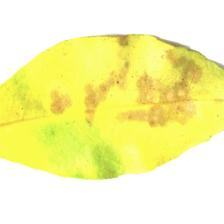black spot: (59, 60, 194, 133)
